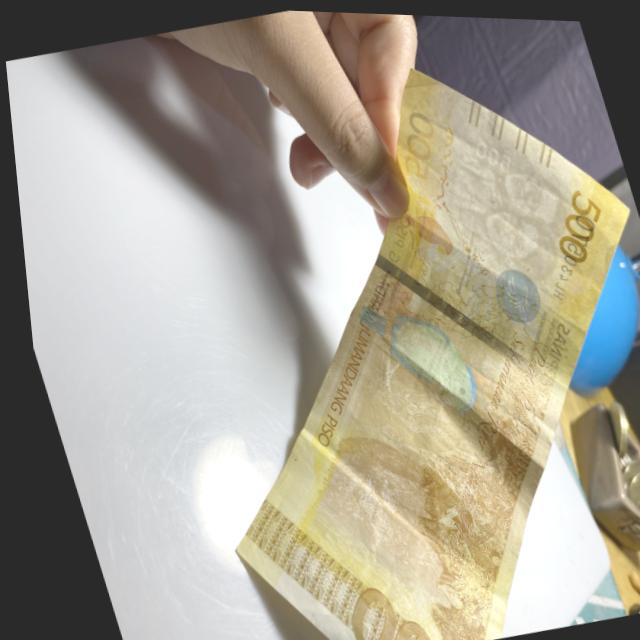500_big_parrot: (354, 283, 476, 424)
500_parrot_watermark: (391, 197, 453, 259)
value_watermark: (462, 124, 512, 174)
watermark: (432, 139, 580, 281)
